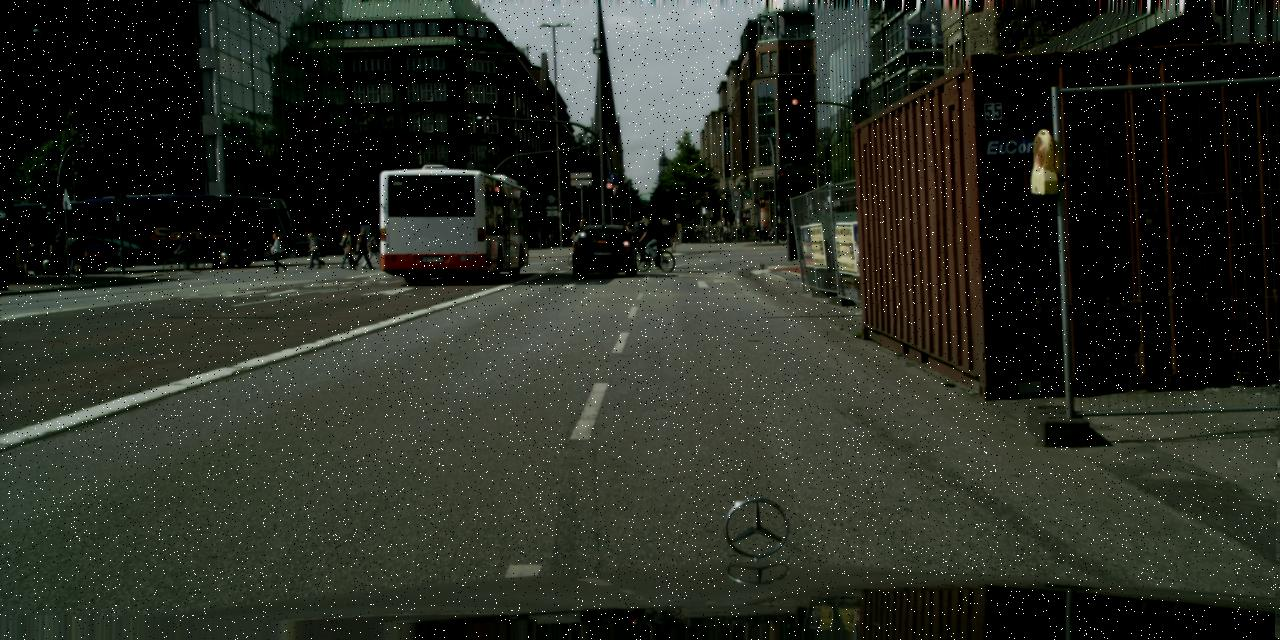ped: (640, 217, 658, 262), (304, 232, 325, 269), (69, 232, 87, 274), (637, 214, 654, 258), (354, 227, 371, 269), (62, 233, 78, 274), (270, 232, 286, 272), (341, 230, 356, 270), (574, 218, 589, 255), (51, 234, 66, 270), (666, 216, 680, 251), (367, 232, 381, 266), (175, 235, 188, 265), (29, 240, 41, 272), (564, 222, 572, 245), (525, 226, 533, 247), (320, 232, 327, 249), (335, 236, 341, 252), (358, 265, 358, 266)
